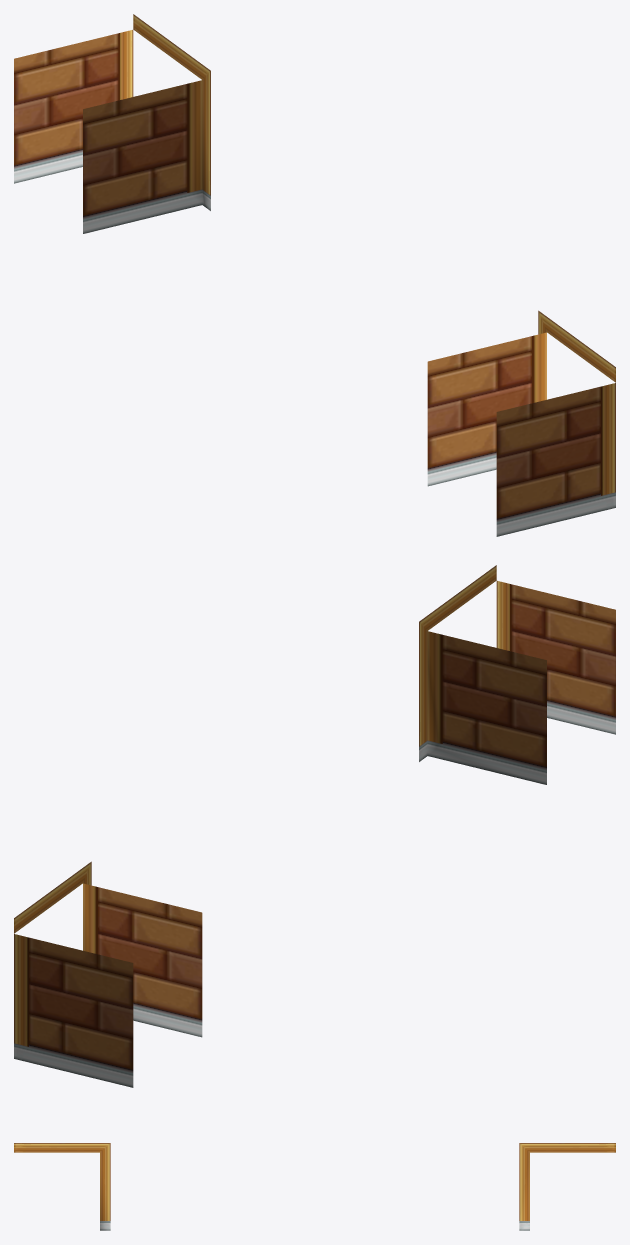
Rendered from museum_fossil_1_mini_wall.dae.
3 renders of one model, top to bottom at view 1: azimuth 30°, elevation 25°; view 2: azimuth 150°, elevation 25°; view 3: azimuth 270°, elevation 25°, orthographic. The views are drawn at different scales.
Parts seen in each view (by area): view 1: museum_fossil_1_mini_wall; view 2: museum_fossil_1_mini_wall; view 3: museum_fossil_1_mini_wall.
Part boxes in pixels (left/top/right/bottom): museum_fossil_1_mini_wall: left=14, top=14, right=615, bottom=536; museum_fossil_1_mini_wall: left=14, top=565, right=615, bottom=1087; museum_fossil_1_mini_wall: left=14, top=1143, right=615, bottom=1230.
Bounding box in the file's own units: 64 × 72 × 448.
1 material, 1 textured.
